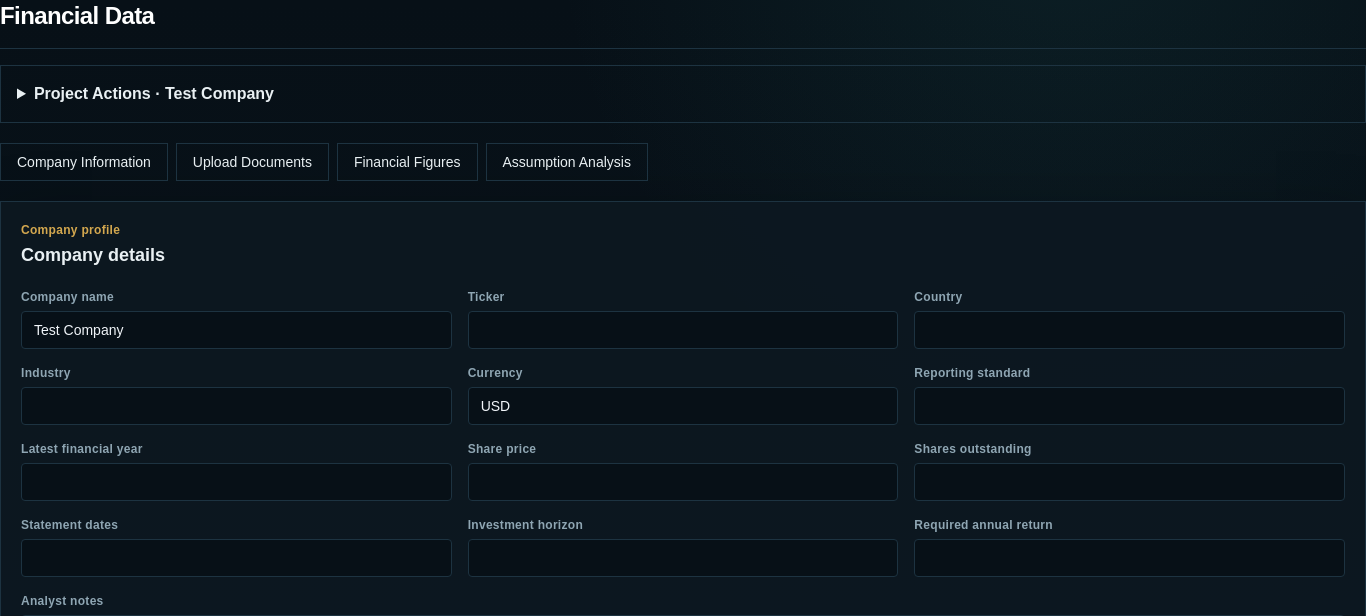
Test: navigates data tabs and retains company fields with rename forms
Replace the text in the field labelled "Company name" with "Edited Company": {"x": 236, "y": 330} [21,311,452,349]
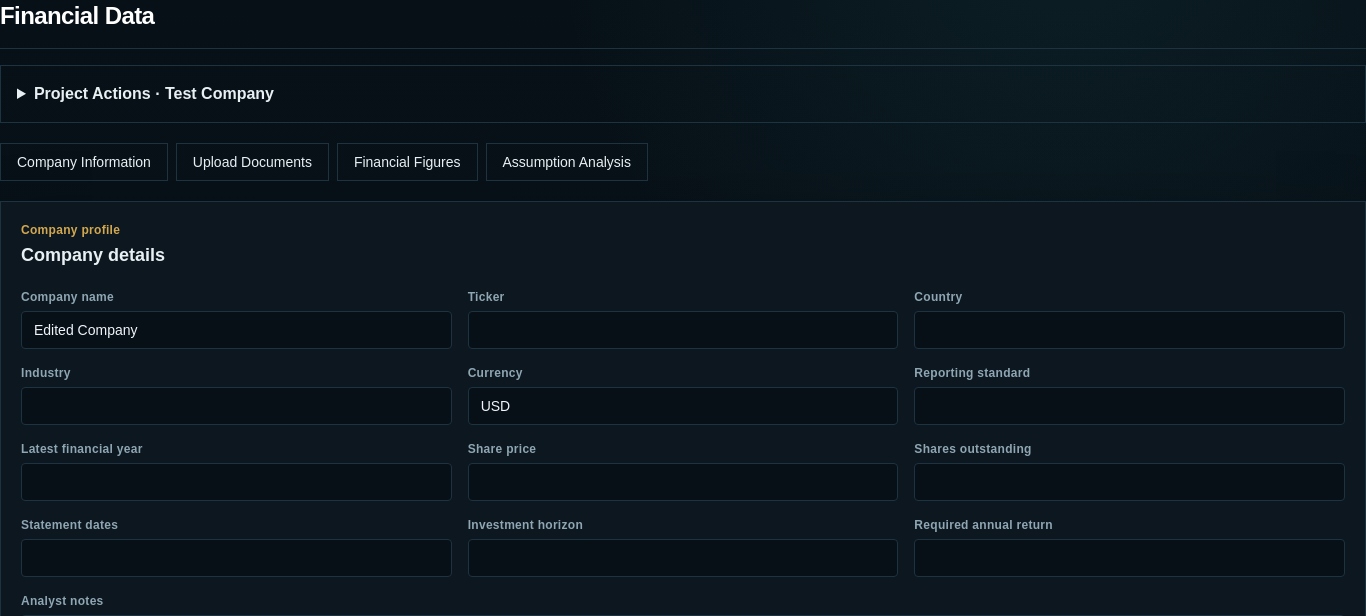
Click the link "Upload Documents": {"x": 252, "y": 162} [176,143,329,181]
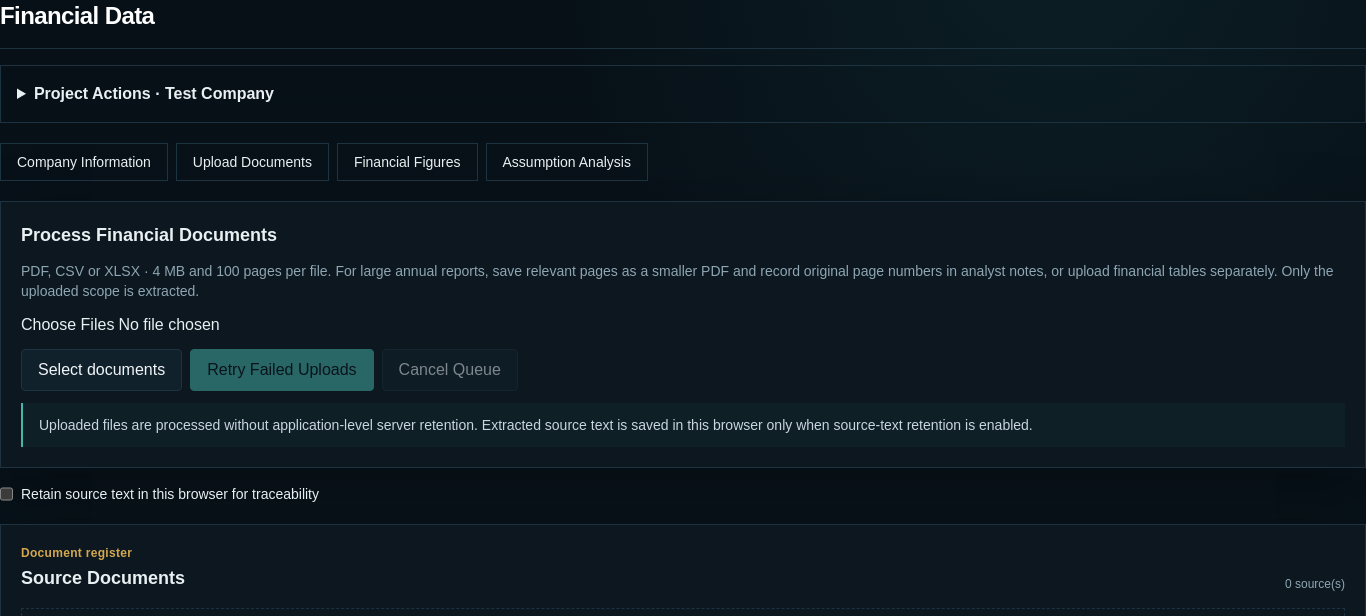
Check: the file field named "Upload financial documents" is shown, box [21,313,324,337]
Click the link "Company Information": {"x": 84, "y": 162} [0,143,168,181]
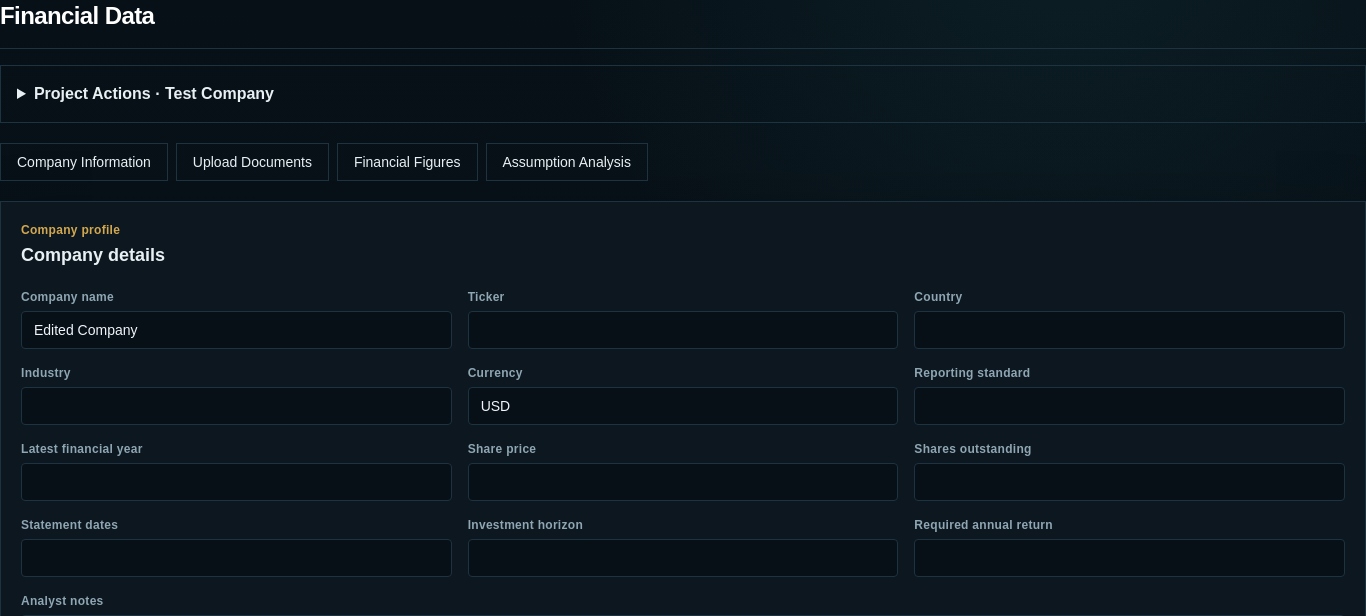
Click the heading "Project Actions · Test Company": {"x": 154, "y": 94} [34,85,274,102]
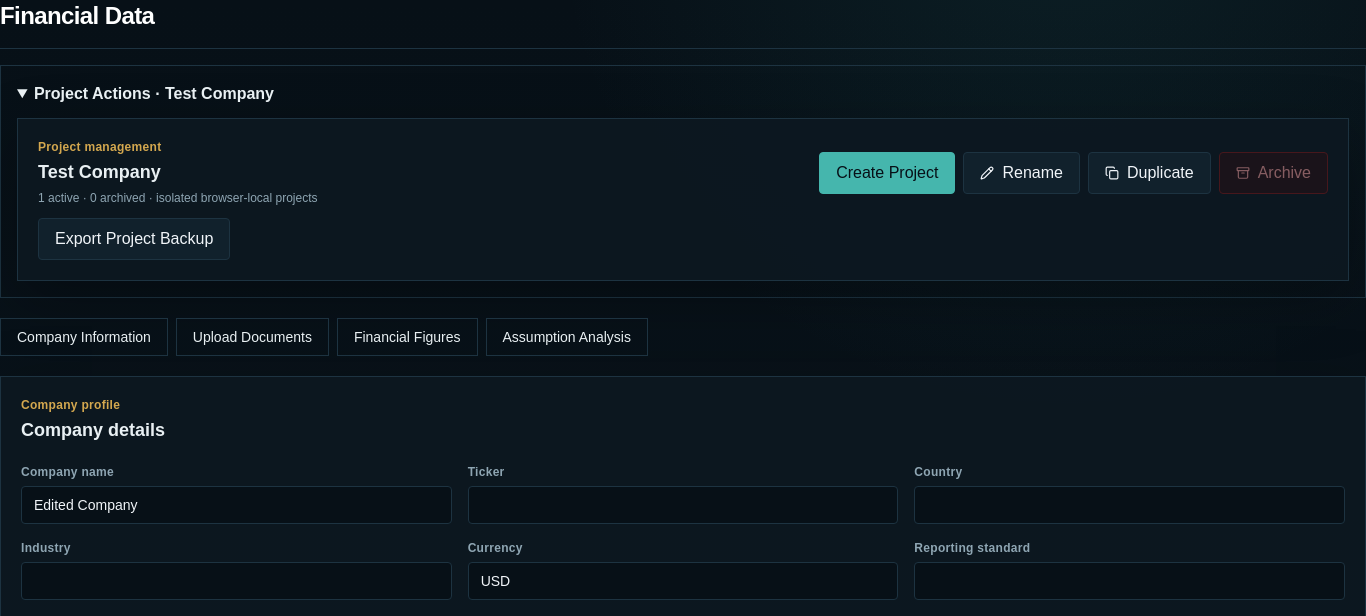
Click the button "Rename": {"x": 1022, "y": 172} [964,152,1080,194]
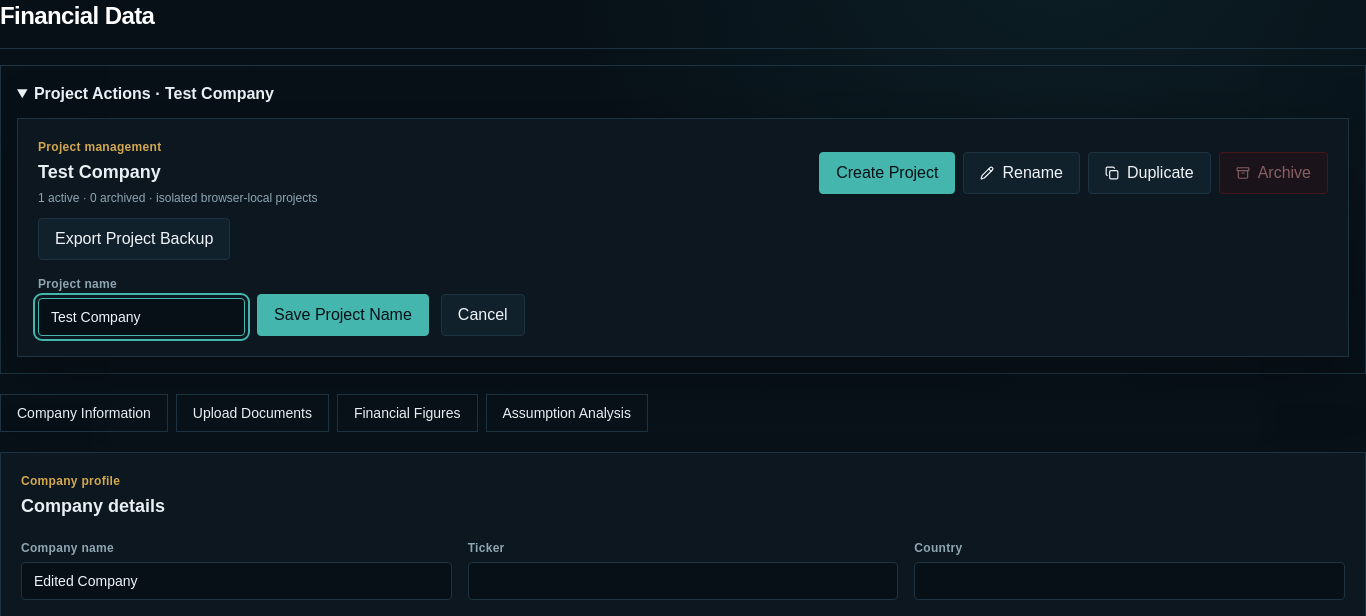
Check: the form named "Rename project" is shown, box [38,277,525,336]
Click the link "Assumption Analysis": {"x": 567, "y": 413} [486,394,648,432]
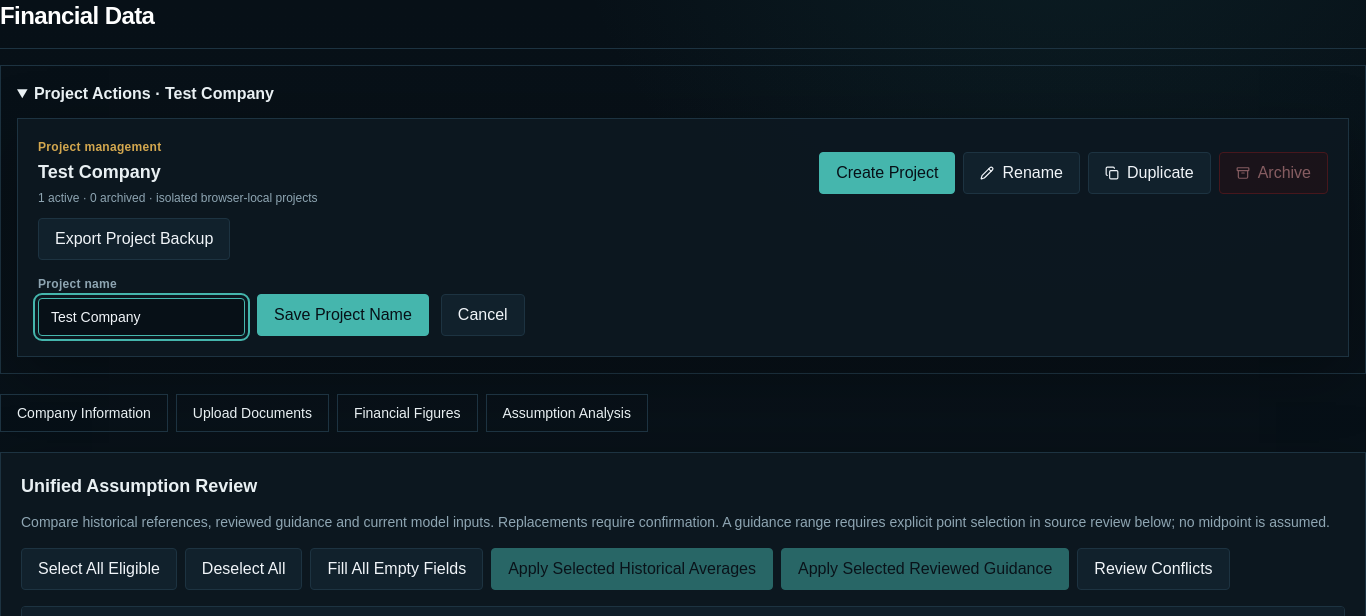
Check: the heading "Unified Assumption Review" is shown, box [21,476,257,496]
